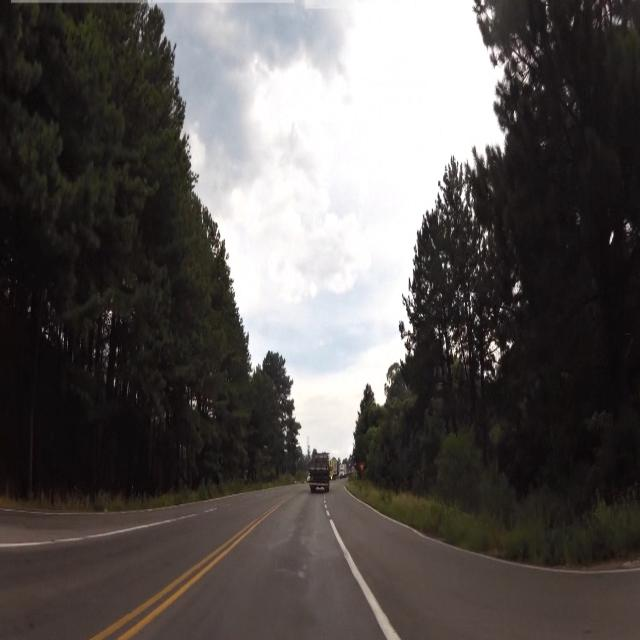R-2: (358, 459, 366, 475)
